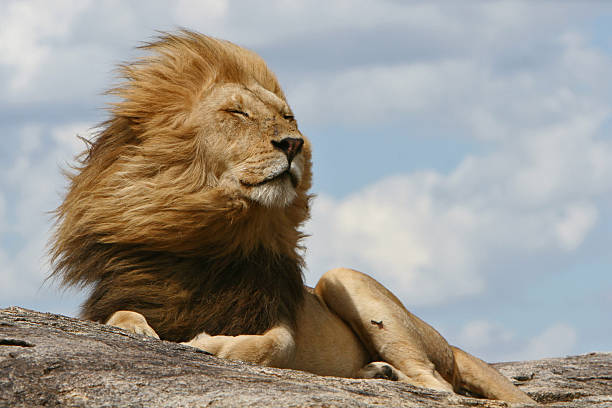lion: (24, 13, 353, 367)
